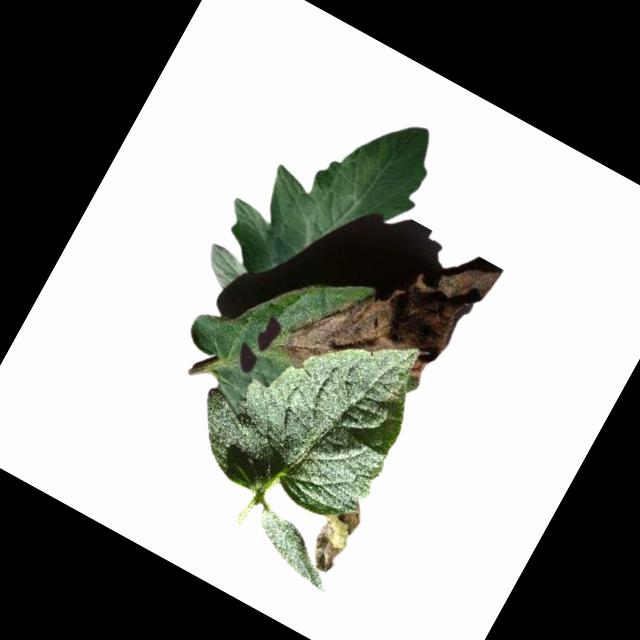Late_blight: (211, 66, 451, 326), (278, 196, 501, 427), (300, 492, 368, 575)
healthy: (209, 287, 440, 532), (176, 389, 284, 490), (240, 505, 349, 595)
